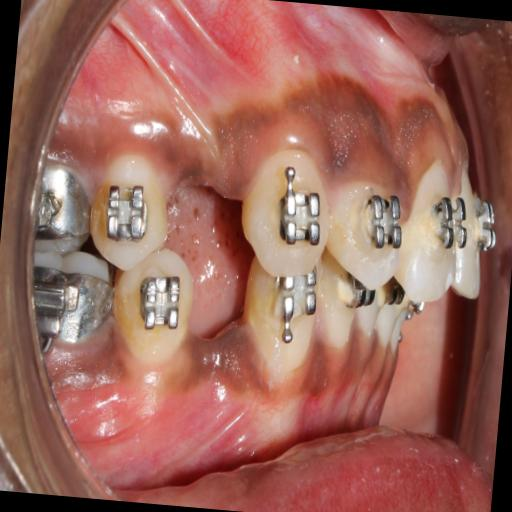correct_brace: (86, 146, 178, 271), (271, 173, 329, 253), (429, 189, 471, 256), (366, 188, 403, 248)
incorrect_brace: (320, 162, 410, 288), (101, 175, 151, 249)
